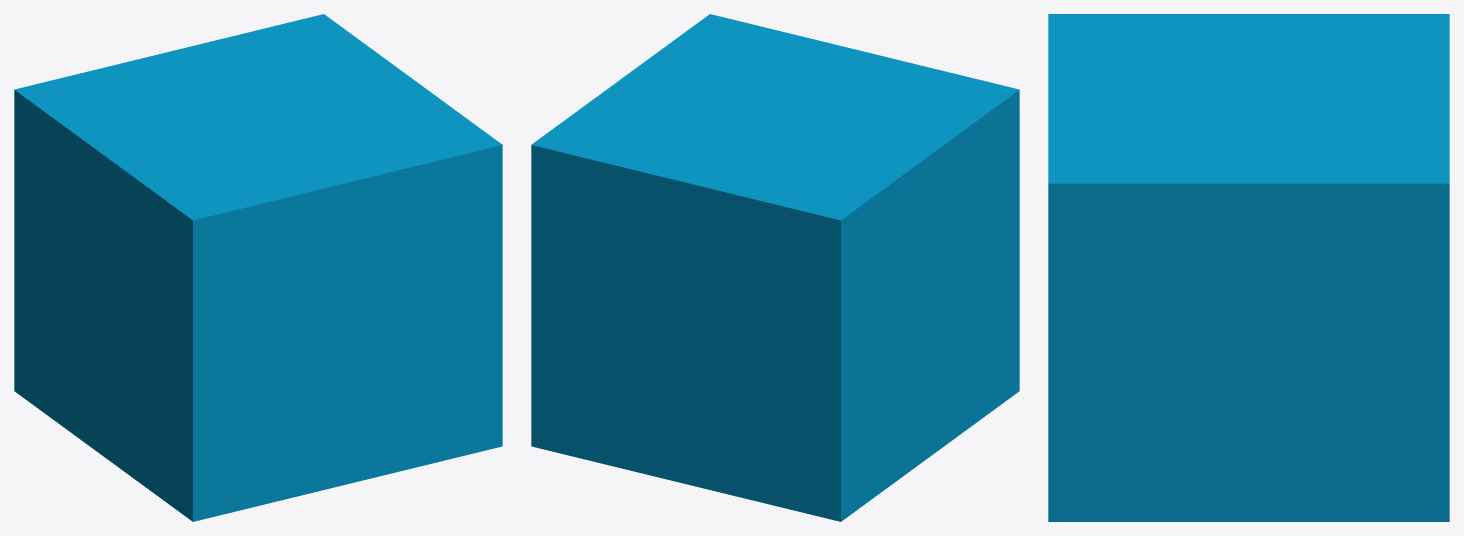
The model's file is WaterTile.fbx.
The picture shows the model from 3 angles, left to right: view 1: azimuth 30°, elevation 25°; view 2: azimuth 150°, elevation 25°; view 3: azimuth 270°, elevation 25°; orthographic projection. The views are drawn at different scales.
Parts seen in each view (by area): view 1: WaterBlock; view 2: WaterBlock; view 3: WaterBlock.
Boxes of the visible parts, x1=… form: WaterBlock: x1=14, y1=14, x2=502, y2=521; WaterBlock: x1=531, y1=14, x2=1019, y2=521; WaterBlock: x1=1048, y1=14, x2=1449, y2=521.
Bounding box in the file's own units: 1 × 0.9299 × 1.
